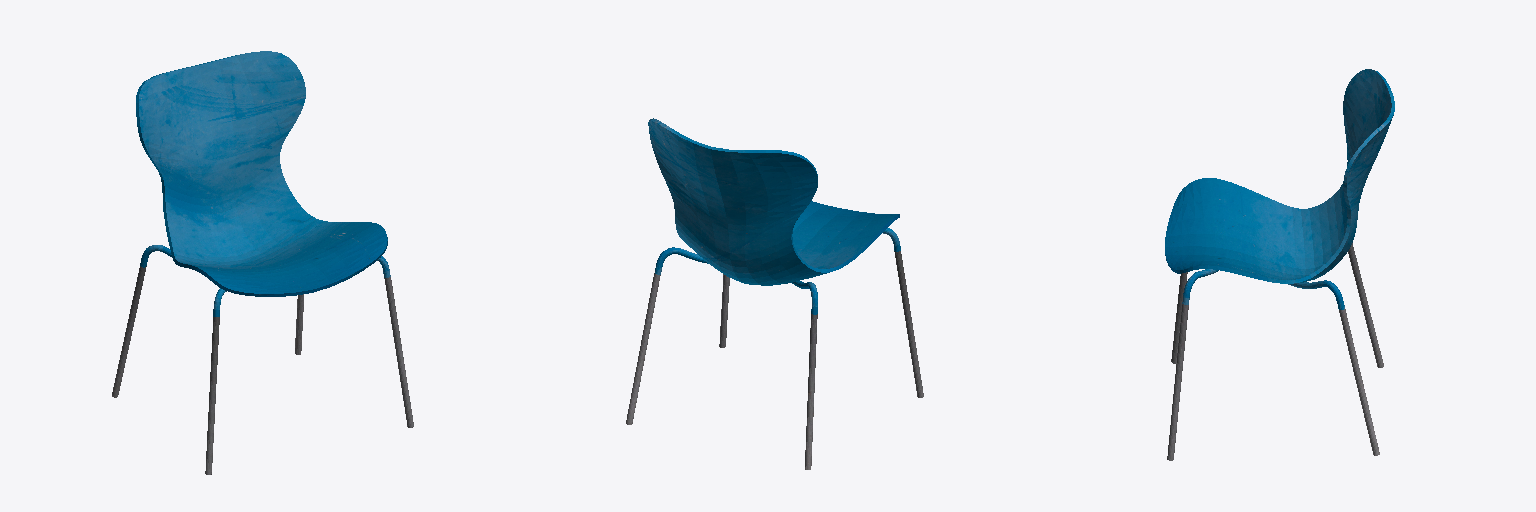
3 renders of one model, left to right at view 1: azimuth 30°, elevation 25°; view 2: azimuth 150°, elevation 25°; view 3: azimuth 270°, elevation 25°, orthographic.
Parts seen in each view (by area): view 1: polySurface515; view 2: polySurface515; view 3: polySurface515.
Part boxes in pixels (x1,y1,x2,y2): polySurface515: (112,51,413,474); polySurface515: (626,118,923,469); polySurface515: (1165,69,1394,460).
Size of the model in its own units: 0.3959 by 0.5708 by 0.3842.
2 materials, 2 textured.